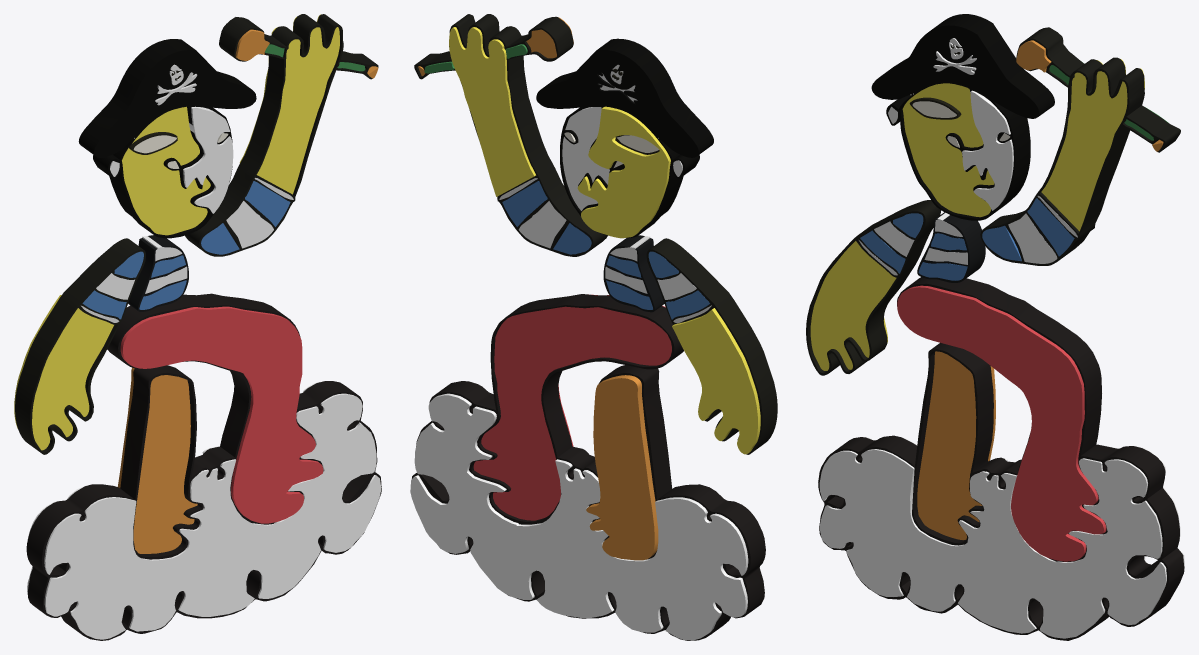
Rendered from rascal.glb.
3 views of the same model, side by side, from view 1: azimuth 30°, elevation 25°; view 2: azimuth 150°, elevation 25°; view 3: azimuth 330°, elevation 25° (orthographic). The views are drawn at different scales.
Visible parts, largest first — view 1: Shape 2, Shape 3, Shape 1, Shape 28, Shape 15, Shape 0, Shape 13, Shape 16, Shape 36, Shape 14, Shape 26, Shape 4 (+7 smaller); view 2: Shape 2, Shape 3, Shape 1, Shape 28, Shape 0, Shape 15, Shape 36, Shape 16, Shape 14, Shape 13, Shape 26, Shape 4 (+7 smaller); view 3: Shape 2, Shape 3, Shape 1, Shape 28, Shape 0, Shape 15, Shape 16, Shape 36, Shape 14, Shape 13, Shape 26, Shape 4 (+7 smaller).
Part boxes in pixels (x1,y1,x2,y2): Shape 2: (27, 381, 381, 639); Shape 3: (120, 306, 323, 523); Shape 1: (26, 293, 381, 640); Shape 28: (78, 39, 256, 238); Shape 15: (185, 14, 378, 256); Shape 0: (117, 367, 197, 553); Shape 13: (15, 238, 145, 454); Shape 16: (239, 14, 339, 194); Shape 36: (122, 106, 210, 235); Shape 14: (14, 295, 113, 450); Shape 26: (183, 106, 233, 213); Shape 4: (128, 235, 188, 311); Shape 2: (410, 393, 748, 640); Shape 3: (473, 294, 671, 520); Shape 1: (412, 294, 765, 640); Shape 28: (536, 38, 713, 237); Shape 0: (586, 375, 658, 560); Shape 15: (414, 14, 607, 256); Shape 36: (577, 106, 670, 238); Shape 16: (449, 27, 535, 196); Shape 14: (672, 308, 760, 454); Shape 13: (646, 238, 777, 454); Shape 26: (562, 107, 609, 210); Shape 4: (603, 235, 664, 312); Shape 2: (819, 436, 1184, 638); Shape 3: (897, 285, 1106, 561); Shape 1: (818, 277, 1184, 640); Shape 28: (871, 14, 1054, 220); Shape 0: (917, 351, 995, 540); Shape 15: (980, 27, 1180, 265); Shape 16: (1041, 59, 1144, 231); Shape 36: (902, 83, 994, 217); Shape 14: (810, 241, 896, 370); Shape 13: (806, 200, 941, 375); Shape 26: (962, 90, 1013, 210); Shape 4: (917, 212, 985, 282).
Bounding box in the file's own units: 5.78 × 9.14 × 0.6126.
